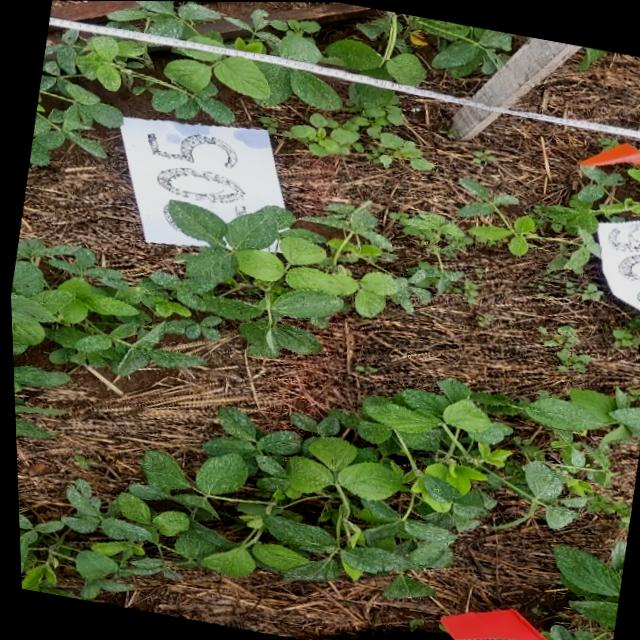caruru_weed: (282, 82, 431, 169), (536, 322, 592, 371), (534, 266, 604, 299), (603, 316, 640, 347), (476, 311, 491, 324)
soy_plant: (15, 377, 640, 601), (168, 166, 640, 355), (8, 203, 387, 355), (28, 28, 341, 164), (107, 1, 515, 85), (11, 265, 114, 364), (46, 321, 201, 374), (550, 540, 622, 630), (11, 364, 65, 393), (269, 322, 318, 352), (538, 623, 607, 640)
